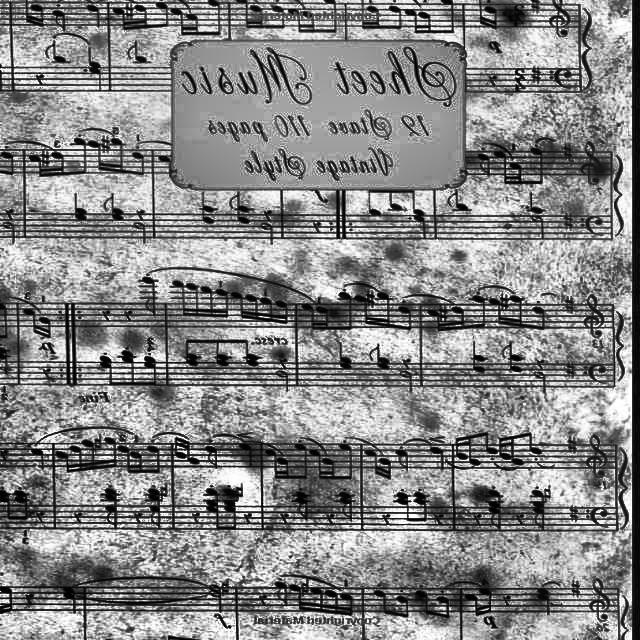Bass-clef: (553, 67, 575, 91), (590, 503, 610, 529), (588, 361, 608, 387), (584, 212, 604, 235)
Diez: (562, 360, 578, 378), (564, 434, 580, 452), (528, 64, 542, 84), (559, 142, 573, 162), (567, 503, 581, 521), (570, 578, 582, 598), (560, 212, 572, 230), (564, 296, 574, 312), (366, 290, 376, 306), (530, 0, 542, 12), (502, 294, 510, 310), (441, 304, 447, 322)
Eighth-note: (500, 340, 526, 372), (367, 340, 393, 372), (182, 334, 204, 368), (212, 338, 236, 368), (102, 488, 118, 532), (142, 275, 158, 317), (204, 487, 220, 529), (336, 292, 352, 332), (486, 490, 502, 530), (222, 487, 236, 531), (338, 443, 354, 481), (146, 488, 160, 530), (120, 350, 136, 386), (96, 356, 114, 388), (294, 444, 310, 480), (531, 490, 545, 530), (339, 491, 356, 523), (143, 357, 161, 387), (394, 491, 412, 521), (472, 296, 488, 328), (294, 492, 312, 520), (369, 589, 388, 615), (14, 490, 30, 520), (146, 446, 162, 474), (414, 492, 428, 522), (532, 305, 548, 331), (416, 588, 430, 616), (273, 580, 287, 608), (398, 306, 414, 330), (526, 430, 542, 454), (204, 446, 220, 470), (482, 431, 498, 454), (0, 490, 12, 520), (436, 596, 452, 618), (396, 594, 410, 618), (396, 451, 410, 474)
Eighth-rest: (468, 512, 484, 528), (100, 308, 112, 324), (124, 308, 136, 324), (24, 590, 36, 606), (258, 592, 270, 608), (501, 592, 513, 608), (34, 510, 46, 526), (243, 512, 254, 528), (513, 513, 527, 525), (433, 513, 445, 527), (381, 513, 393, 527), (74, 510, 84, 526), (535, 356, 547, 368), (324, 512, 336, 524), (279, 512, 291, 524), (190, 512, 202, 524), (1, 448, 10, 464), (133, 511, 143, 525), (401, 358, 412, 370)
Half-note: (396, 370, 416, 394), (529, 372, 547, 396), (209, 584, 221, 612)
Quarter-note: (467, 339, 489, 376), (335, 341, 353, 372), (60, 584, 76, 614), (29, 448, 46, 472), (536, 588, 550, 616), (428, 446, 444, 470), (238, 443, 254, 467)
Sixteenth-note: (170, 278, 186, 318), (378, 290, 394, 328), (510, 292, 526, 328), (230, 286, 246, 322), (102, 436, 118, 468), (187, 280, 200, 318), (478, 587, 494, 617), (82, 438, 95, 474), (452, 303, 468, 331), (22, 309, 38, 335), (308, 586, 324, 612), (202, 284, 214, 318), (468, 432, 480, 466), (275, 298, 289, 326), (0, 586, 14, 614), (426, 310, 442, 334), (216, 286, 228, 318), (54, 450, 70, 474), (462, 594, 478, 618), (310, 448, 322, 479), (247, 292, 260, 320), (70, 444, 82, 474), (39, 316, 55, 338), (260, 294, 272, 322), (498, 434, 510, 462), (339, 592, 353, 616), (290, 582, 302, 610), (490, 299, 502, 325), (130, 451, 144, 473), (378, 458, 392, 479), (174, 438, 186, 460), (327, 590, 338, 614), (278, 458, 290, 478)
Treble-clef: (578, 138, 606, 188), (587, 576, 611, 624), (585, 433, 609, 481), (582, 294, 606, 340), (548, 0, 572, 38)
